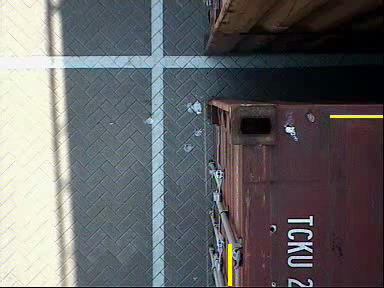groundmarker_2: (117, 133, 253, 286)
